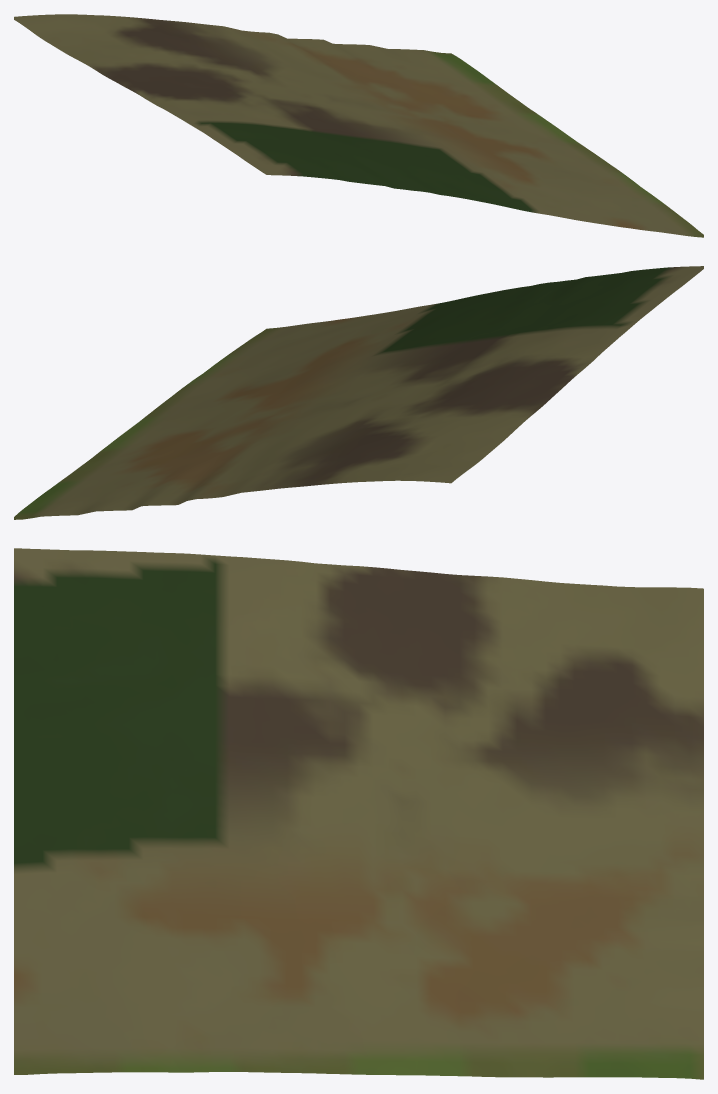
Rendered from land_m_06_06.glb.
3 views of the same model, one above another, from view 1: azimuth 30°, elevation 25°; view 2: azimuth 150°, elevation 25°; view 3: azimuth 270°, elevation 25° (orthographic). The views are drawn at different scales.
Visible parts, largest first — view 1: land_m_06_06; view 2: land_m_06_06; view 3: land_m_06_06.
Part boxes in pixels (x1=…): land_m_06_06: x1=14, y1=14, x2=703, y2=237; land_m_06_06: x1=14, y1=266, x2=703, y2=519; land_m_06_06: x1=14, y1=548, x2=703, y2=1079.
Bounding box in the file's own units: 960 × 368 × 960.
